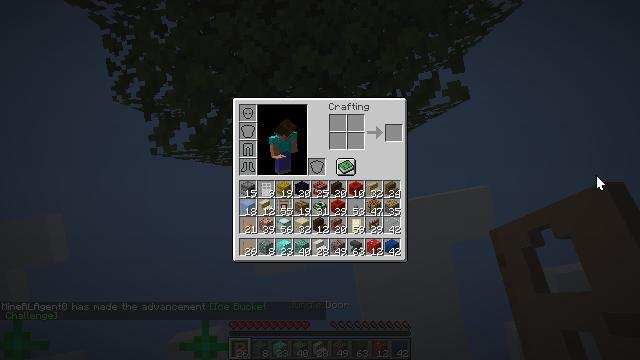cursor: (596, 175, 606, 191)
